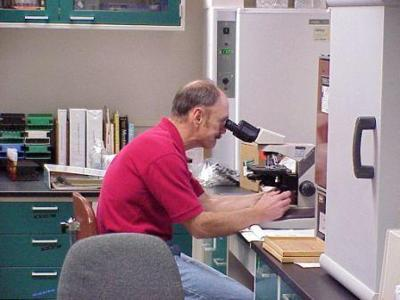person: (96, 79, 292, 300)
